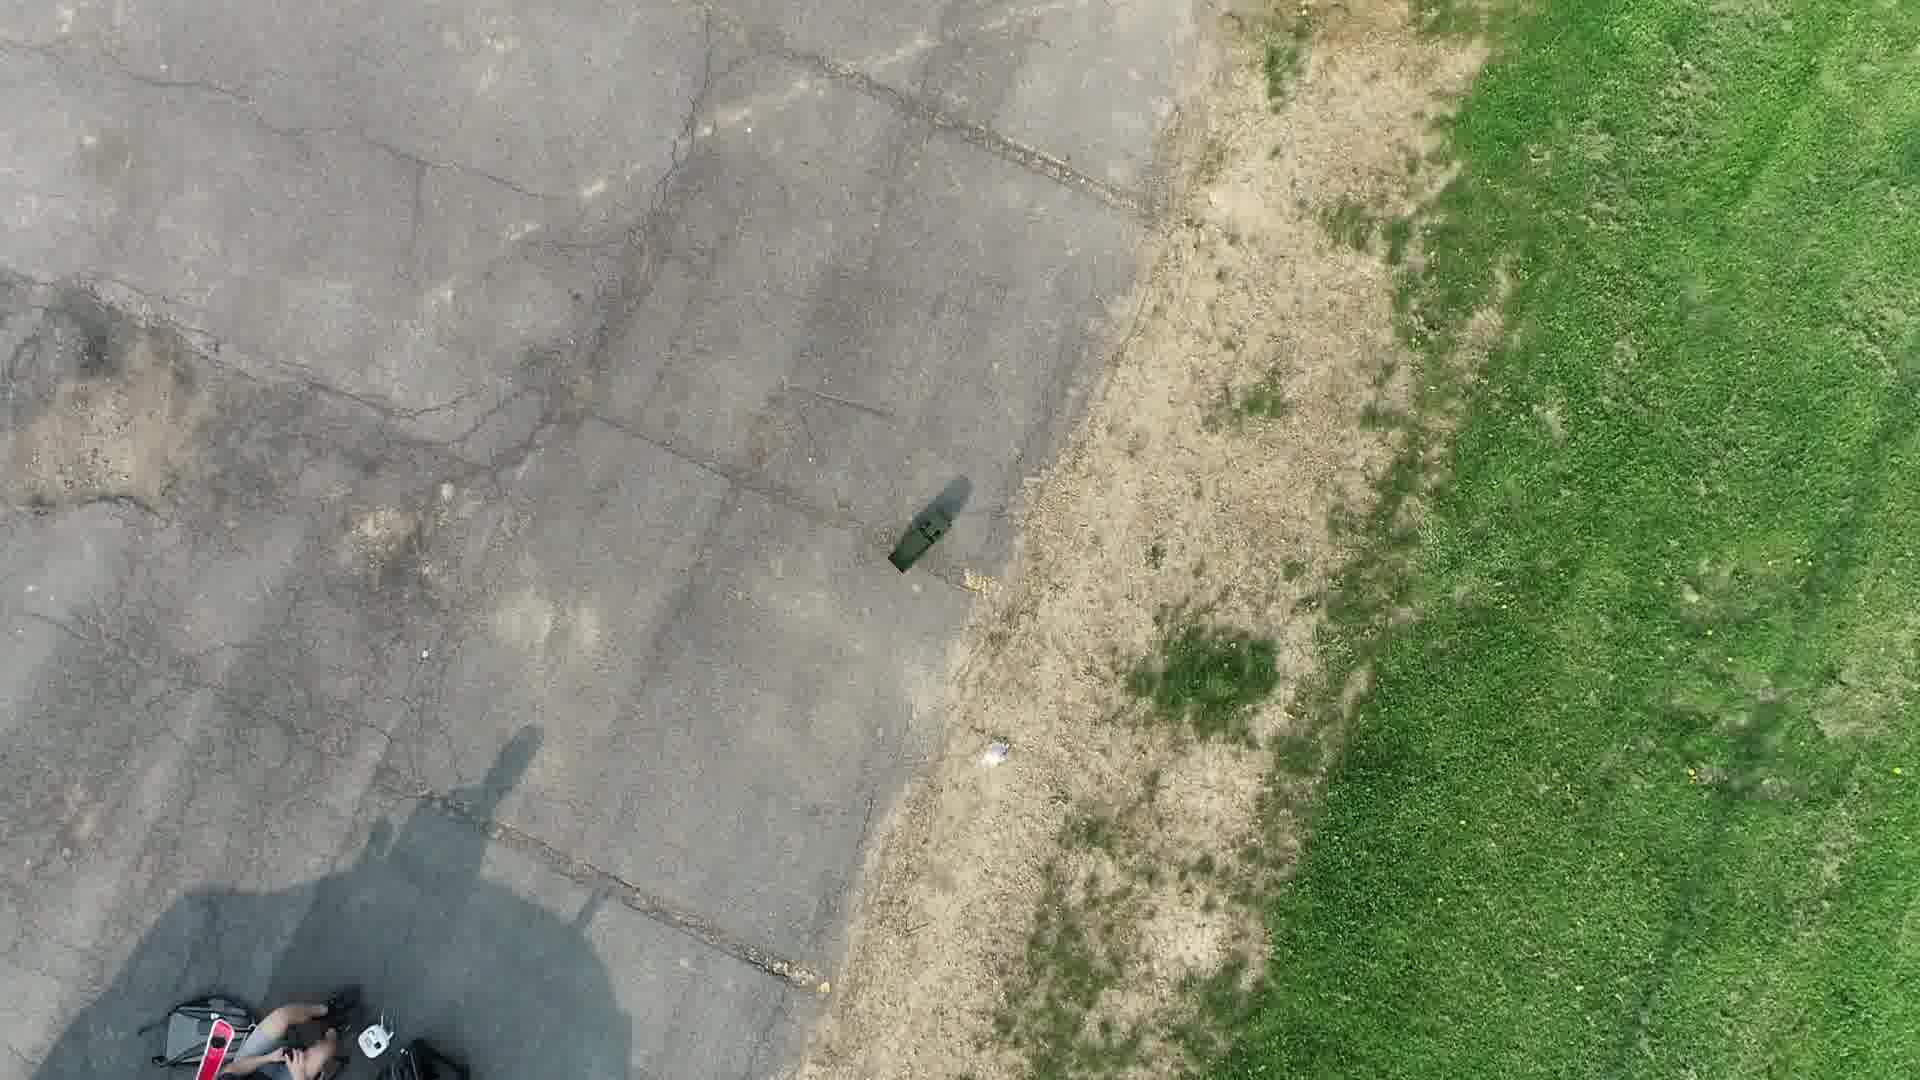transporter9: (884, 506, 955, 576)
